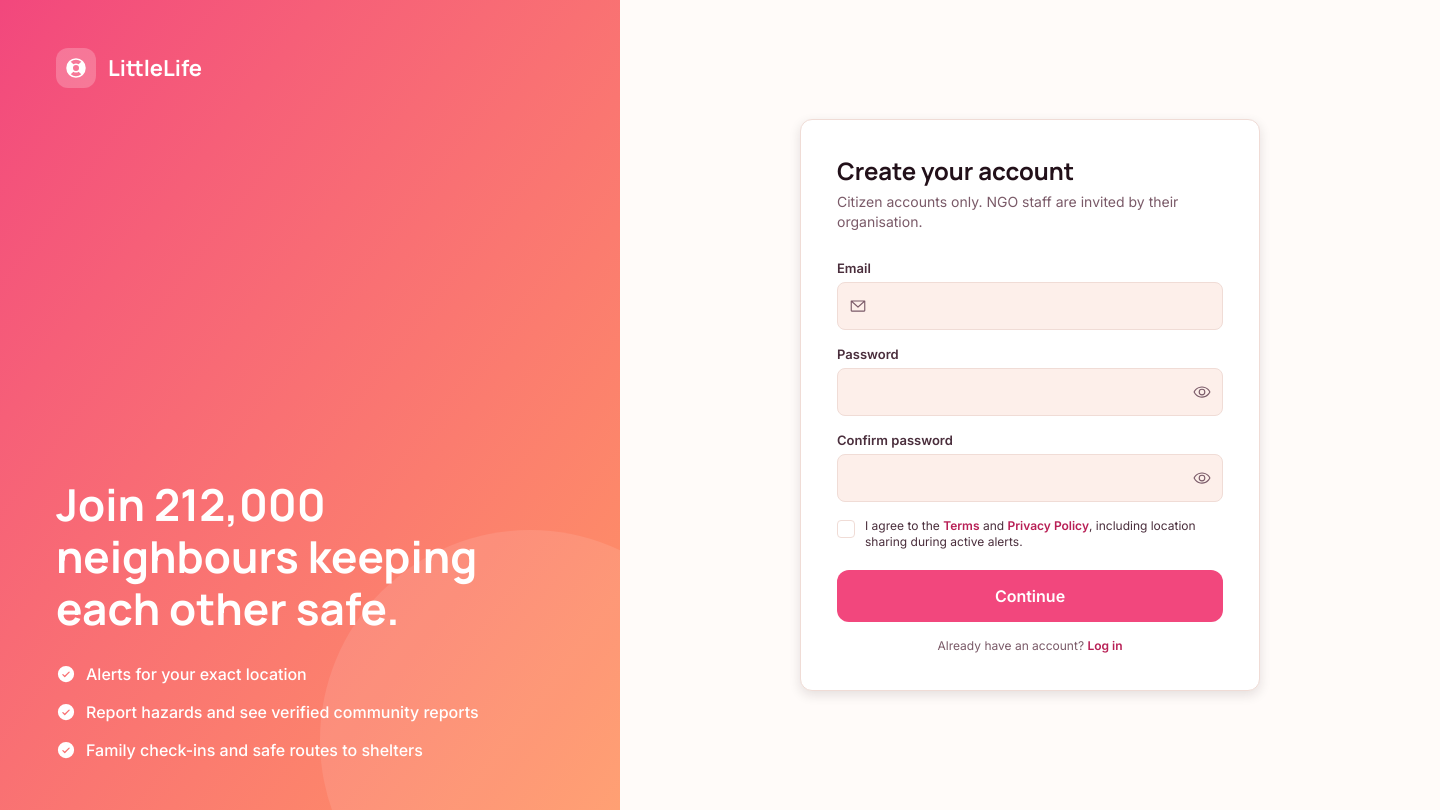
Test: RegisterPage › shows the real conflict error for an already-registered email and does not authenticate
Type "citizen@example.com" into the field labelled "Email". click: coordinates (1030, 306)
box: [837, 282, 1223, 330]
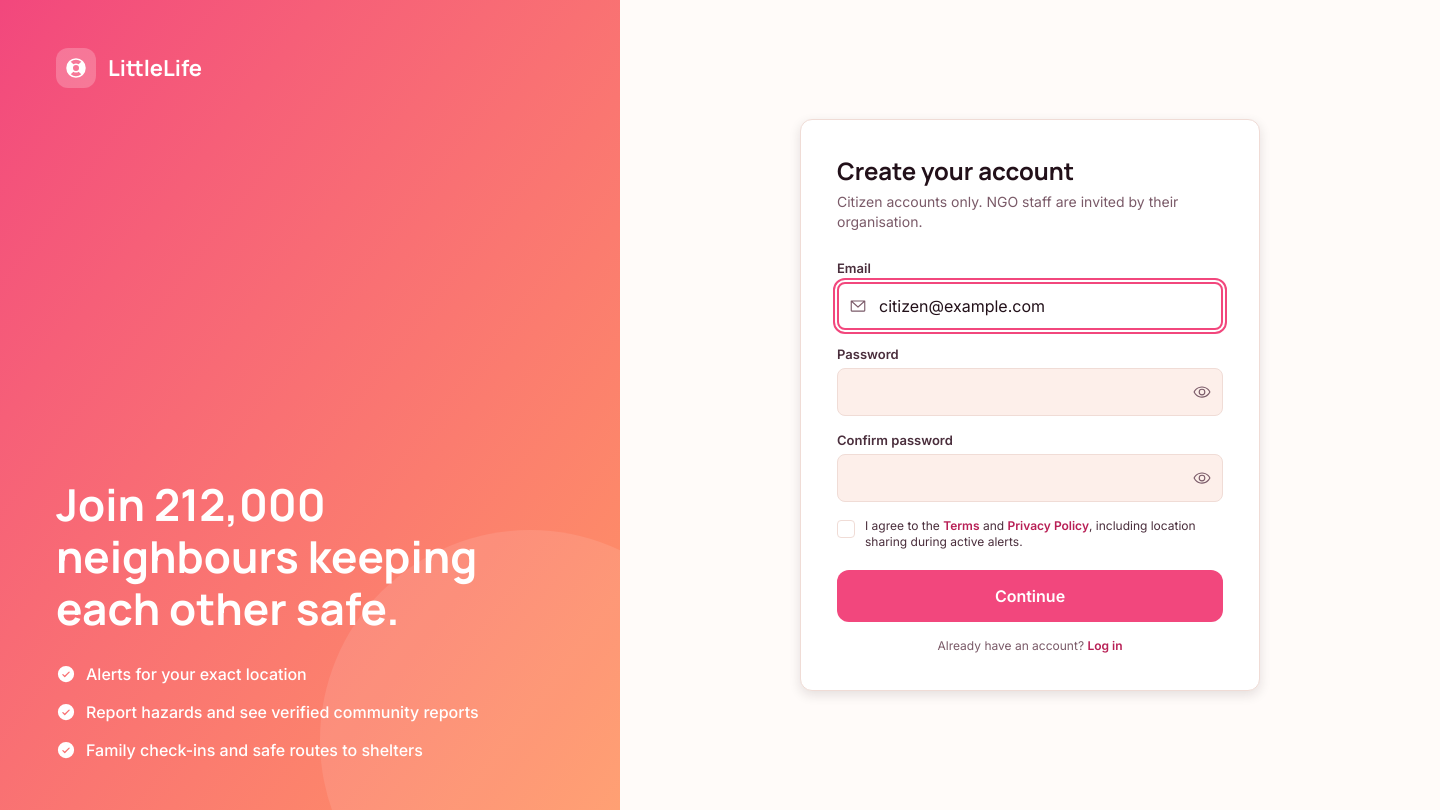
Type "correct-password" into the password field labelled "Password". click: coordinates (1030, 392)
box: [837, 368, 1223, 416]
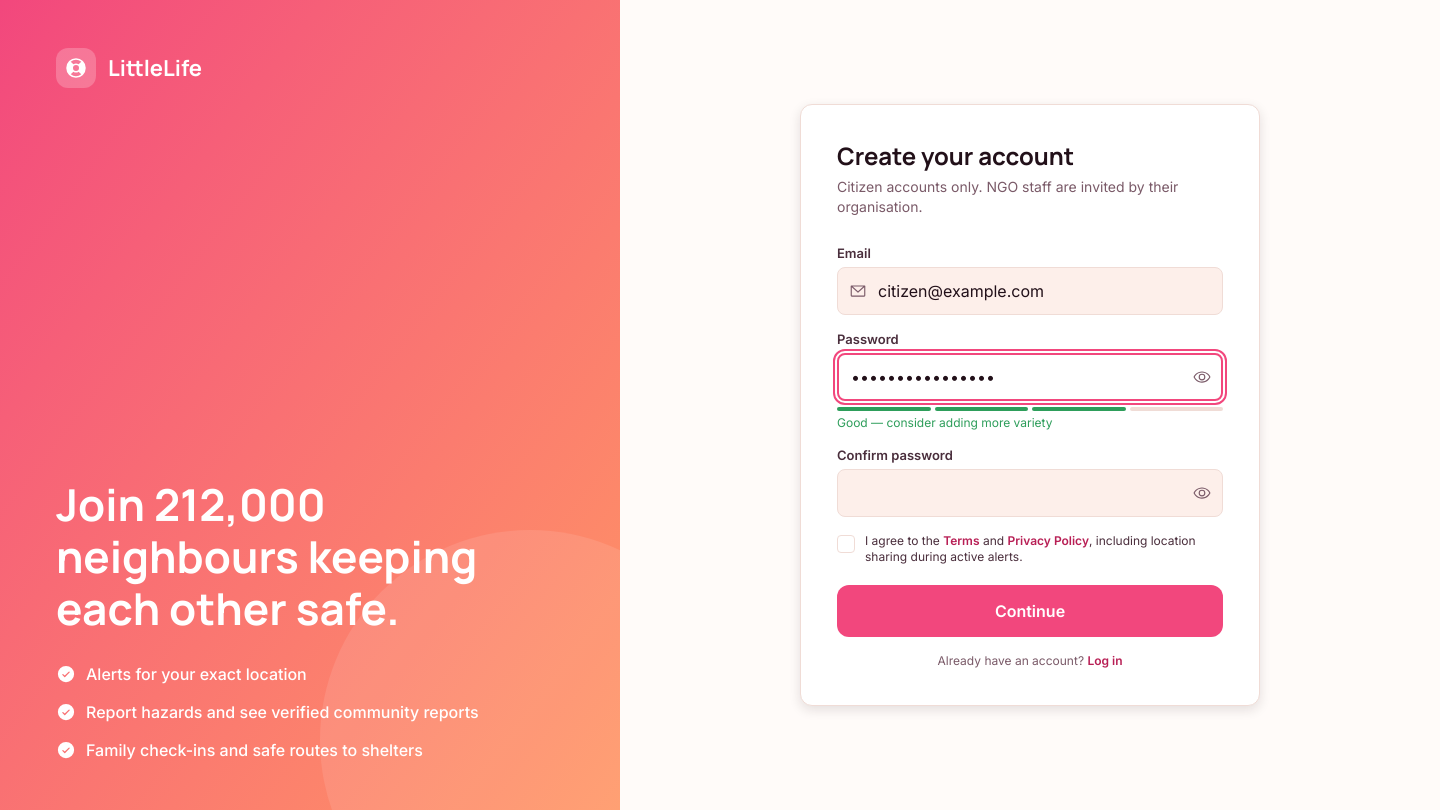
Type "correct-password" into the password field labelled "Confirm password". click: coordinates (1030, 493)
box: [837, 469, 1223, 517]
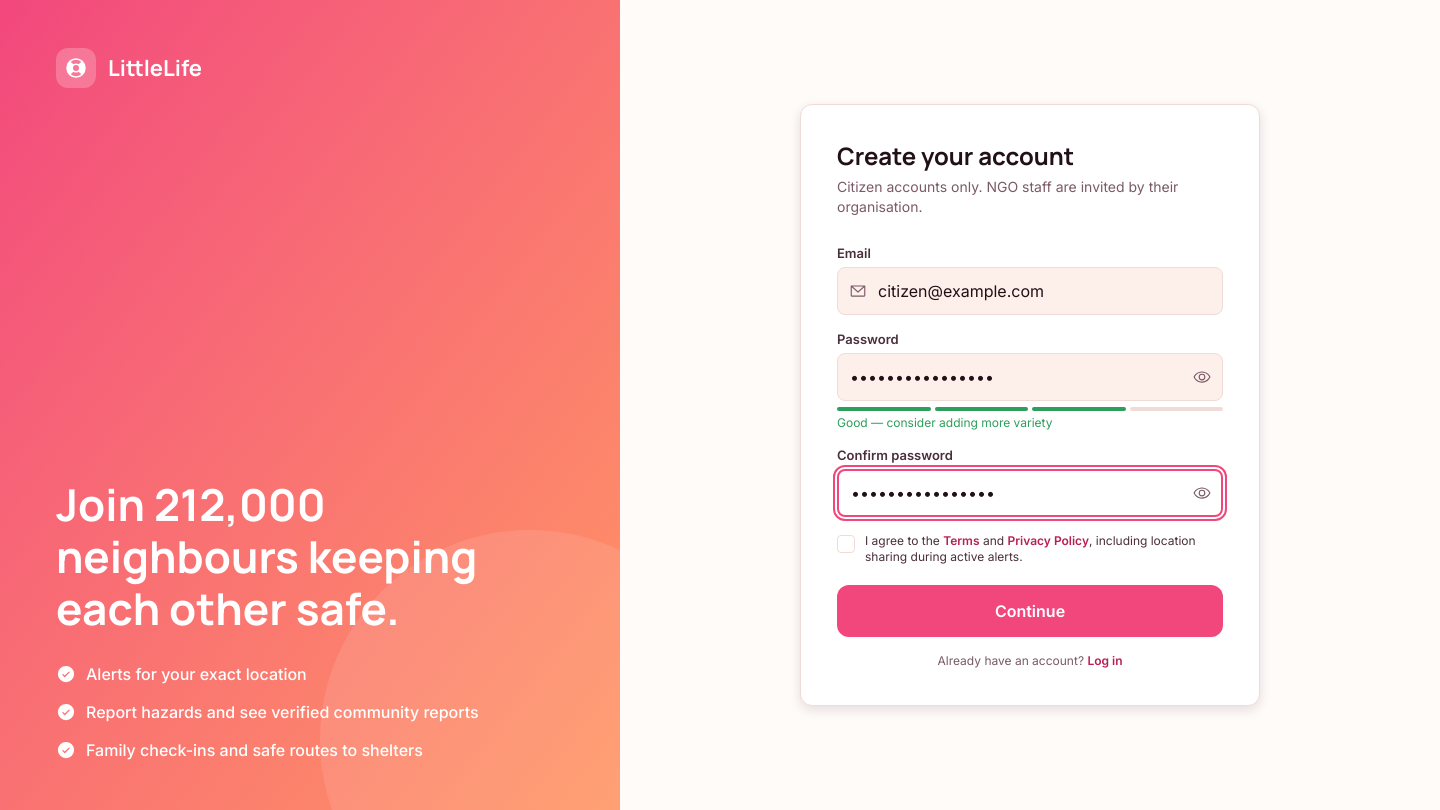
Click the checkbox. click: coordinates (1030, 549)
box: [837, 533, 1223, 565]
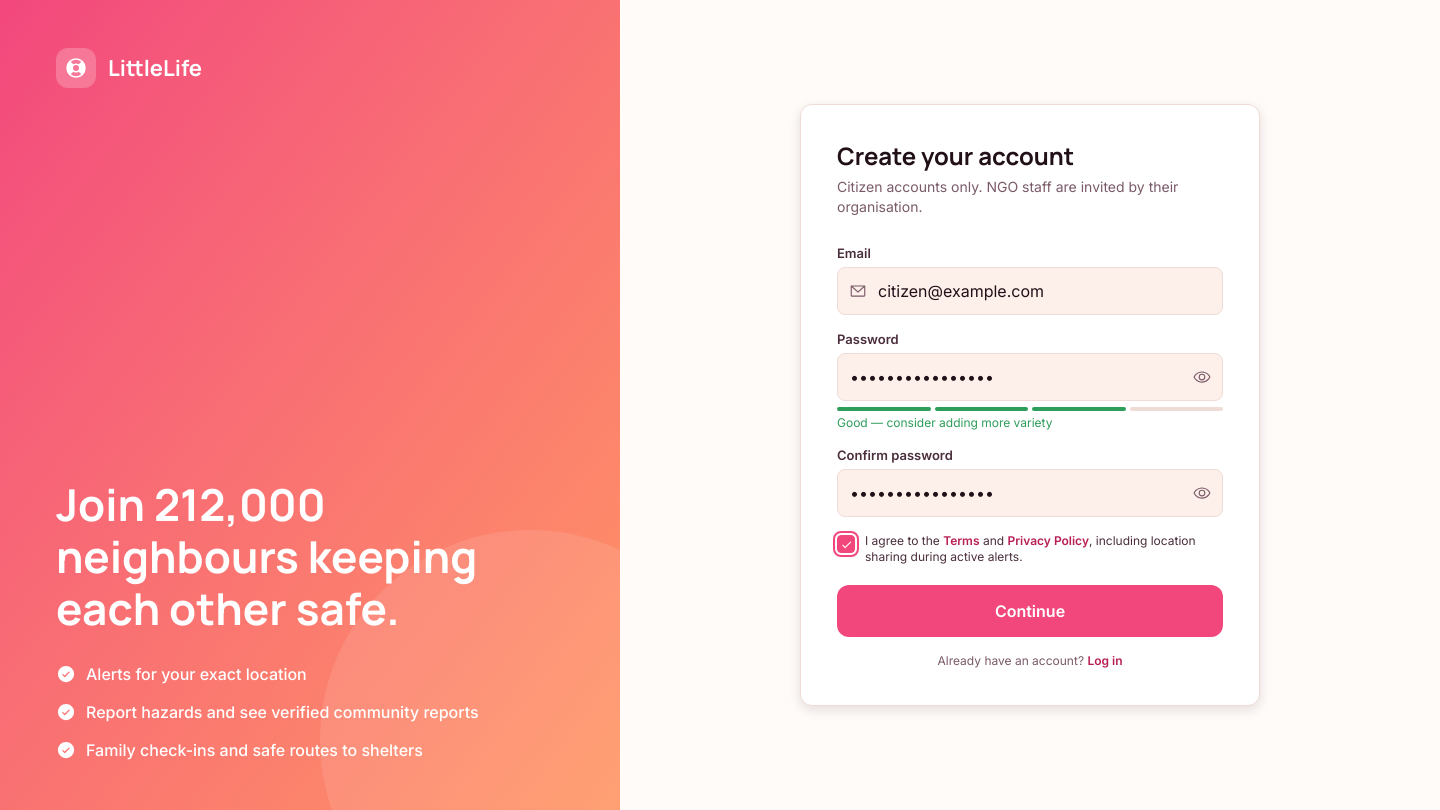
Click the button named "Continue". click: coordinates (1030, 611)
box: [837, 585, 1223, 637]
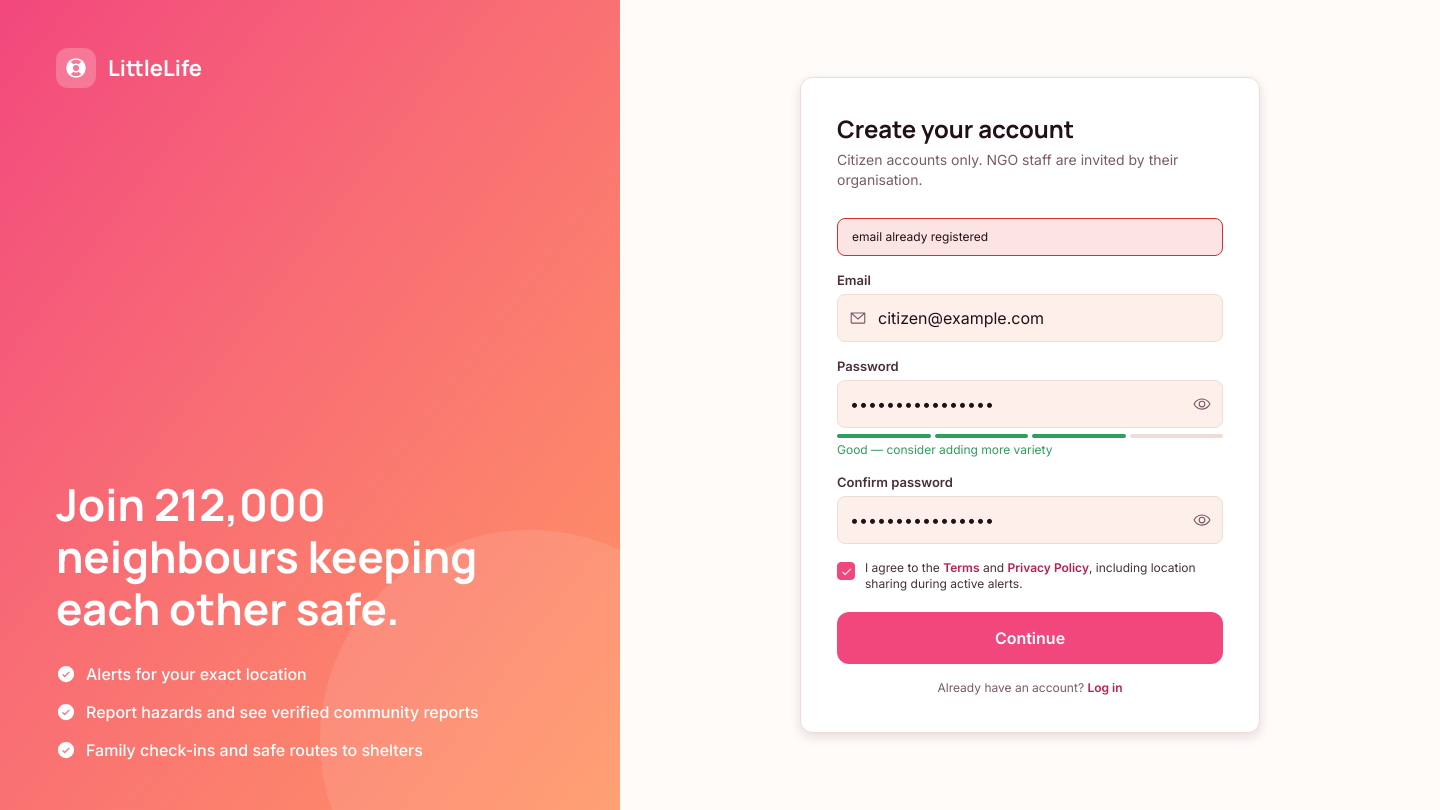
Result: the message reads "email already registered" at [852, 229, 988, 244]
